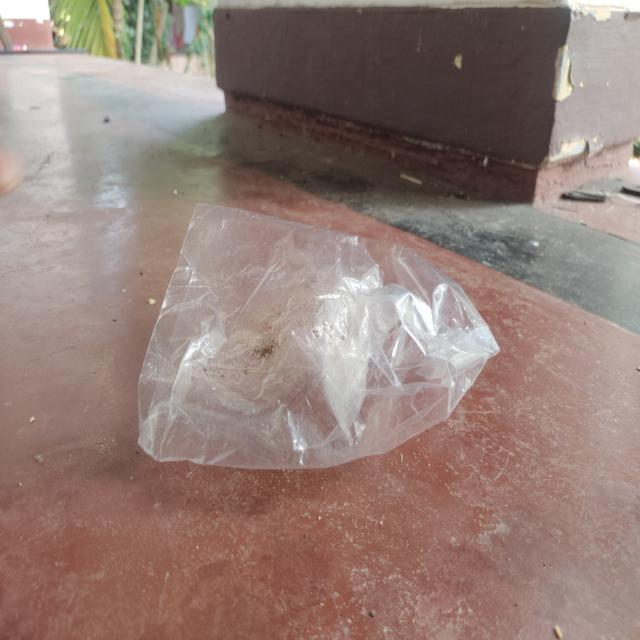plastic: (135, 196, 506, 473)
